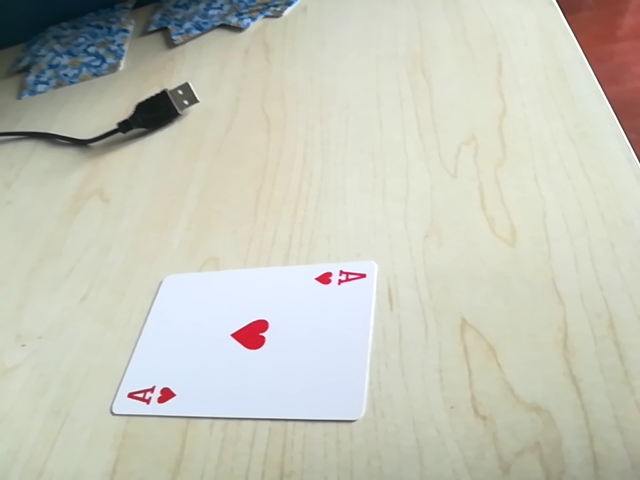hx a: (310, 263, 371, 294), (120, 381, 181, 409)
